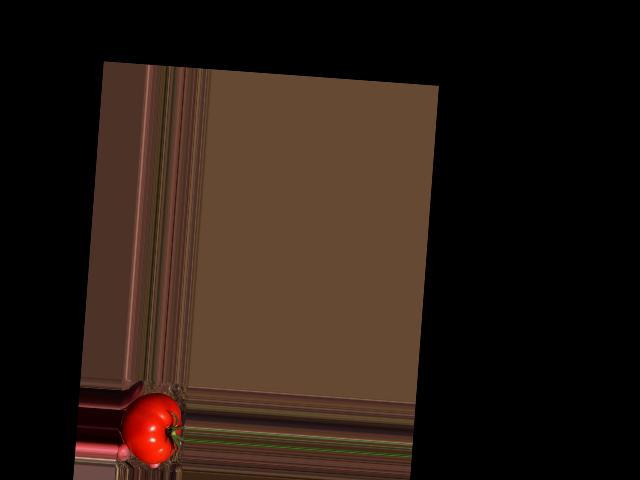tomato: (118, 391, 183, 466)
